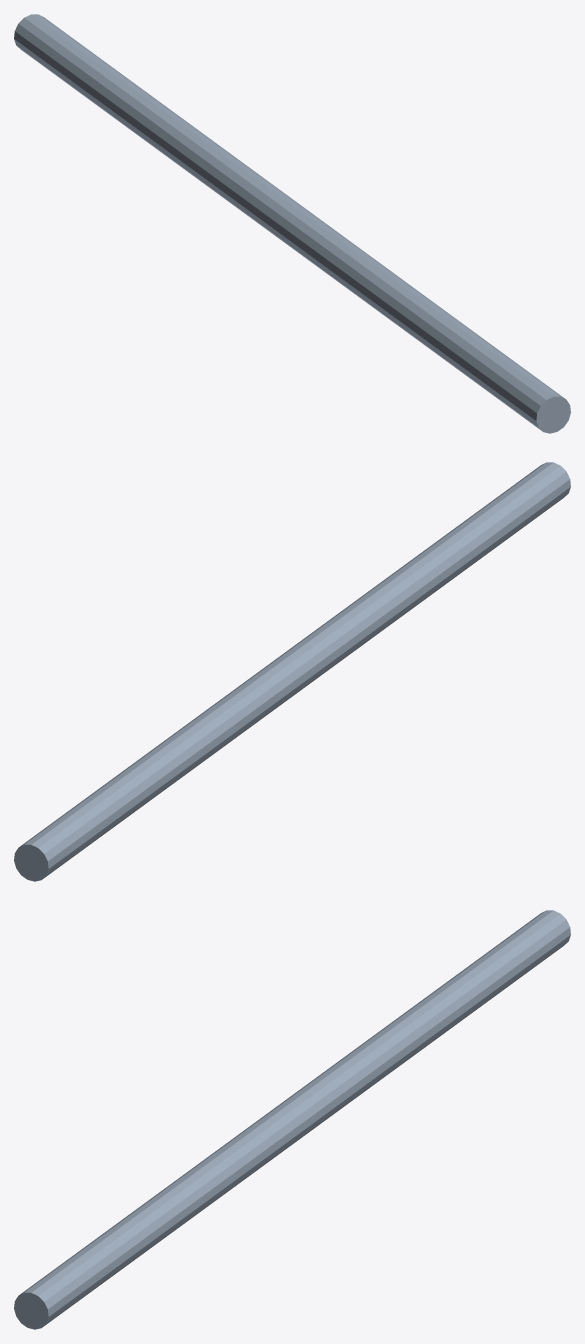
The picture shows the model from 3 angles, top to bottom: view 1: azimuth 30°, elevation 25°; view 2: azimuth 150°, elevation 25°; view 3: azimuth 330°, elevation 25°; orthographic projection.
Visible parts, largest first — view 1: part_003; view 2: part_003; view 3: part_003.
Boxes of the visible parts, box(x1,y1,x2,y2) form: part_003: box(14, 14, 570, 433); part_003: box(14, 462, 570, 881); part_003: box(14, 910, 570, 1329).
Bounding box in the file's own units: 0.00398 × 0.104 × 0.00396.
